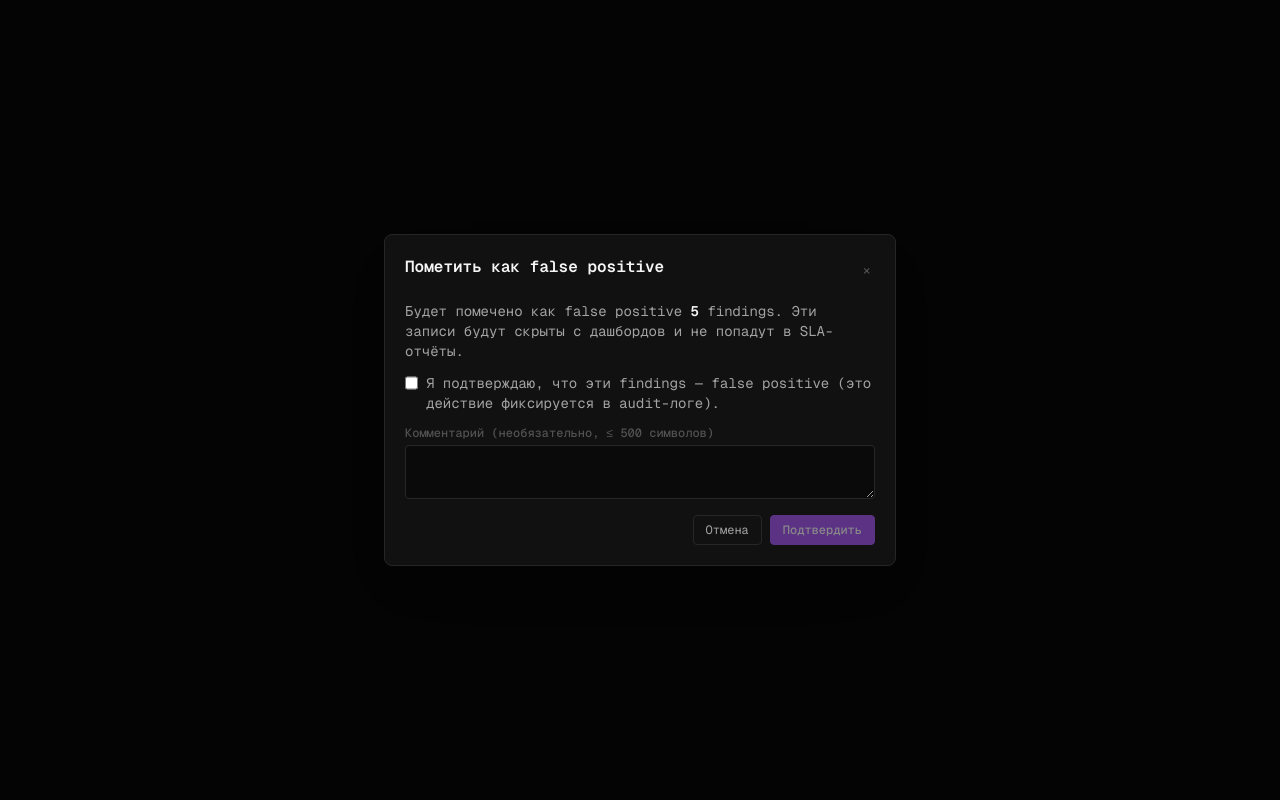
it: BulkActionDialog — mark_false_positive flow › confirm is disabled until the confirmation checkbox is ticked
This screenshot has width=1280, height=800.
Expected: the button with test id "bulk-action-dialog-confirm" is disabled, x1=770 y1=515 x2=875 y2=545
What coordinates should you click on to do the following:
click the checkbox with test id "bulk-fp-confirm"
I would click on:
 (412, 383)
Its box is x1=405 y1=375 x2=418 y2=391.
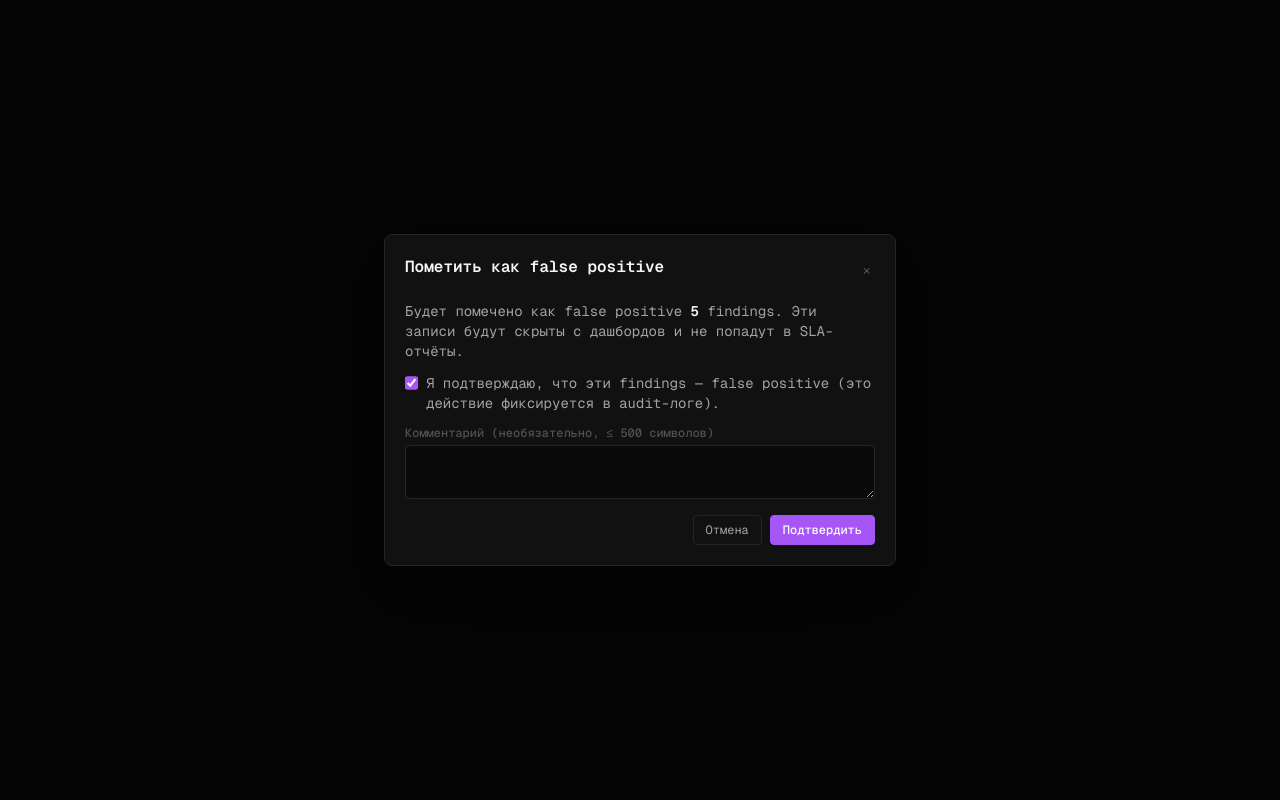
Expected: the button with test id "bulk-action-dialog-confirm" is enabled, x1=770 y1=515 x2=875 y2=545
